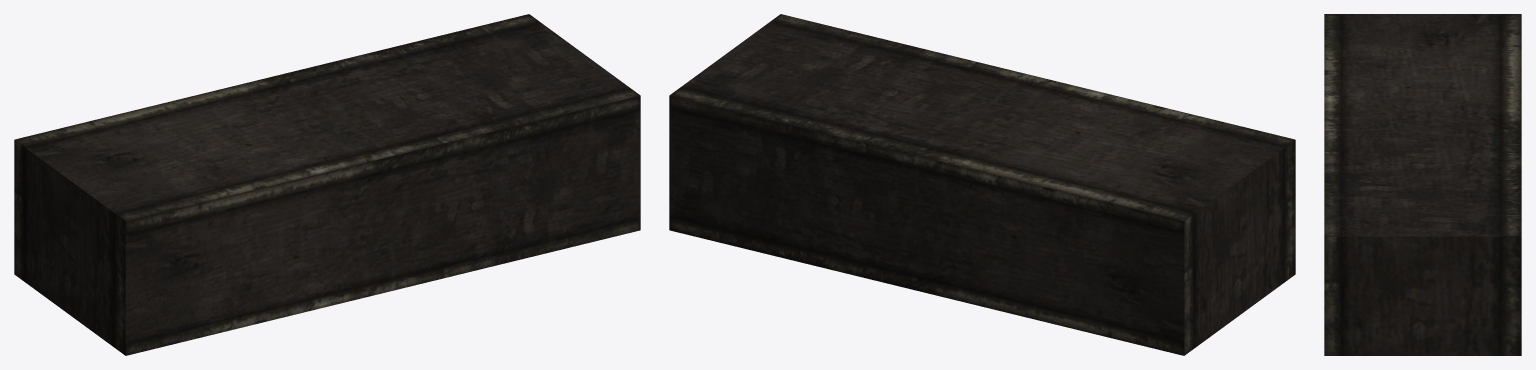
File: welder_wood_middle.dae
The picture shows the model from 3 angles, left to right: view 1: azimuth 30°, elevation 25°; view 2: azimuth 150°, elevation 25°; view 3: azimuth 270°, elevation 25°; orthographic projection. The views are drawn at different scales.
Parts seen in each view (by area): view 1: pCube2; view 2: pCube2; view 3: pCube2.
Part boxes in pixels (left/top/right/bottom): pCube2: left=14, top=14, right=640, bottom=355; pCube2: left=669, top=14, right=1295, bottom=355; pCube2: left=1324, top=14, right=1521, bottom=355.
Size of the model in its own units: 2 by 0.5 by 0.75.
